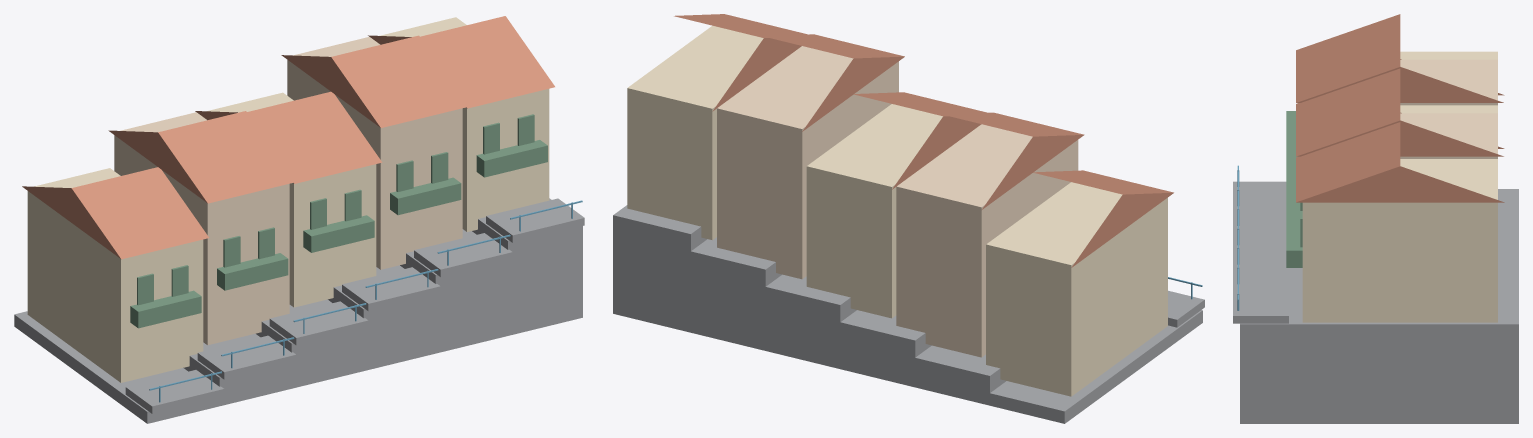
Rendered from lm_102_day_nha_pho_phap_giat_cap_doc_nha_bo_khu_hoa_binh.glb.
3 renders of one model, left to right at view 1: azimuth 30°, elevation 25°; view 2: azimuth 150°, elevation 25°; view 3: azimuth 270°, elevation 25°, orthographic. The views are drawn at different scales.
Visible parts, largest first — view 1: lm_102_day_nha_pho_phap_giat_cap_doc_nha_bo_khu_hoa_binh; view 2: lm_102_day_nha_pho_phap_giat_cap_doc_nha_bo_khu_hoa_binh; view 3: lm_102_day_nha_pho_phap_giat_cap_doc_nha_bo_khu_hoa_binh.
Boxes of the visible parts, x1,y1,x2,y2 form: lm_102_day_nha_pho_phap_giat_cap_doc_nha_bo_khu_hoa_binh: [14, 16, 584, 423]; lm_102_day_nha_pho_phap_giat_cap_doc_nha_bo_khu_hoa_binh: [613, 14, 1204, 423]; lm_102_day_nha_pho_phap_giat_cap_doc_nha_bo_khu_hoa_binh: [1233, 14, 1518, 423].
Bounding box in the file's own units: 30.2 × 16.4 × 16.4.
